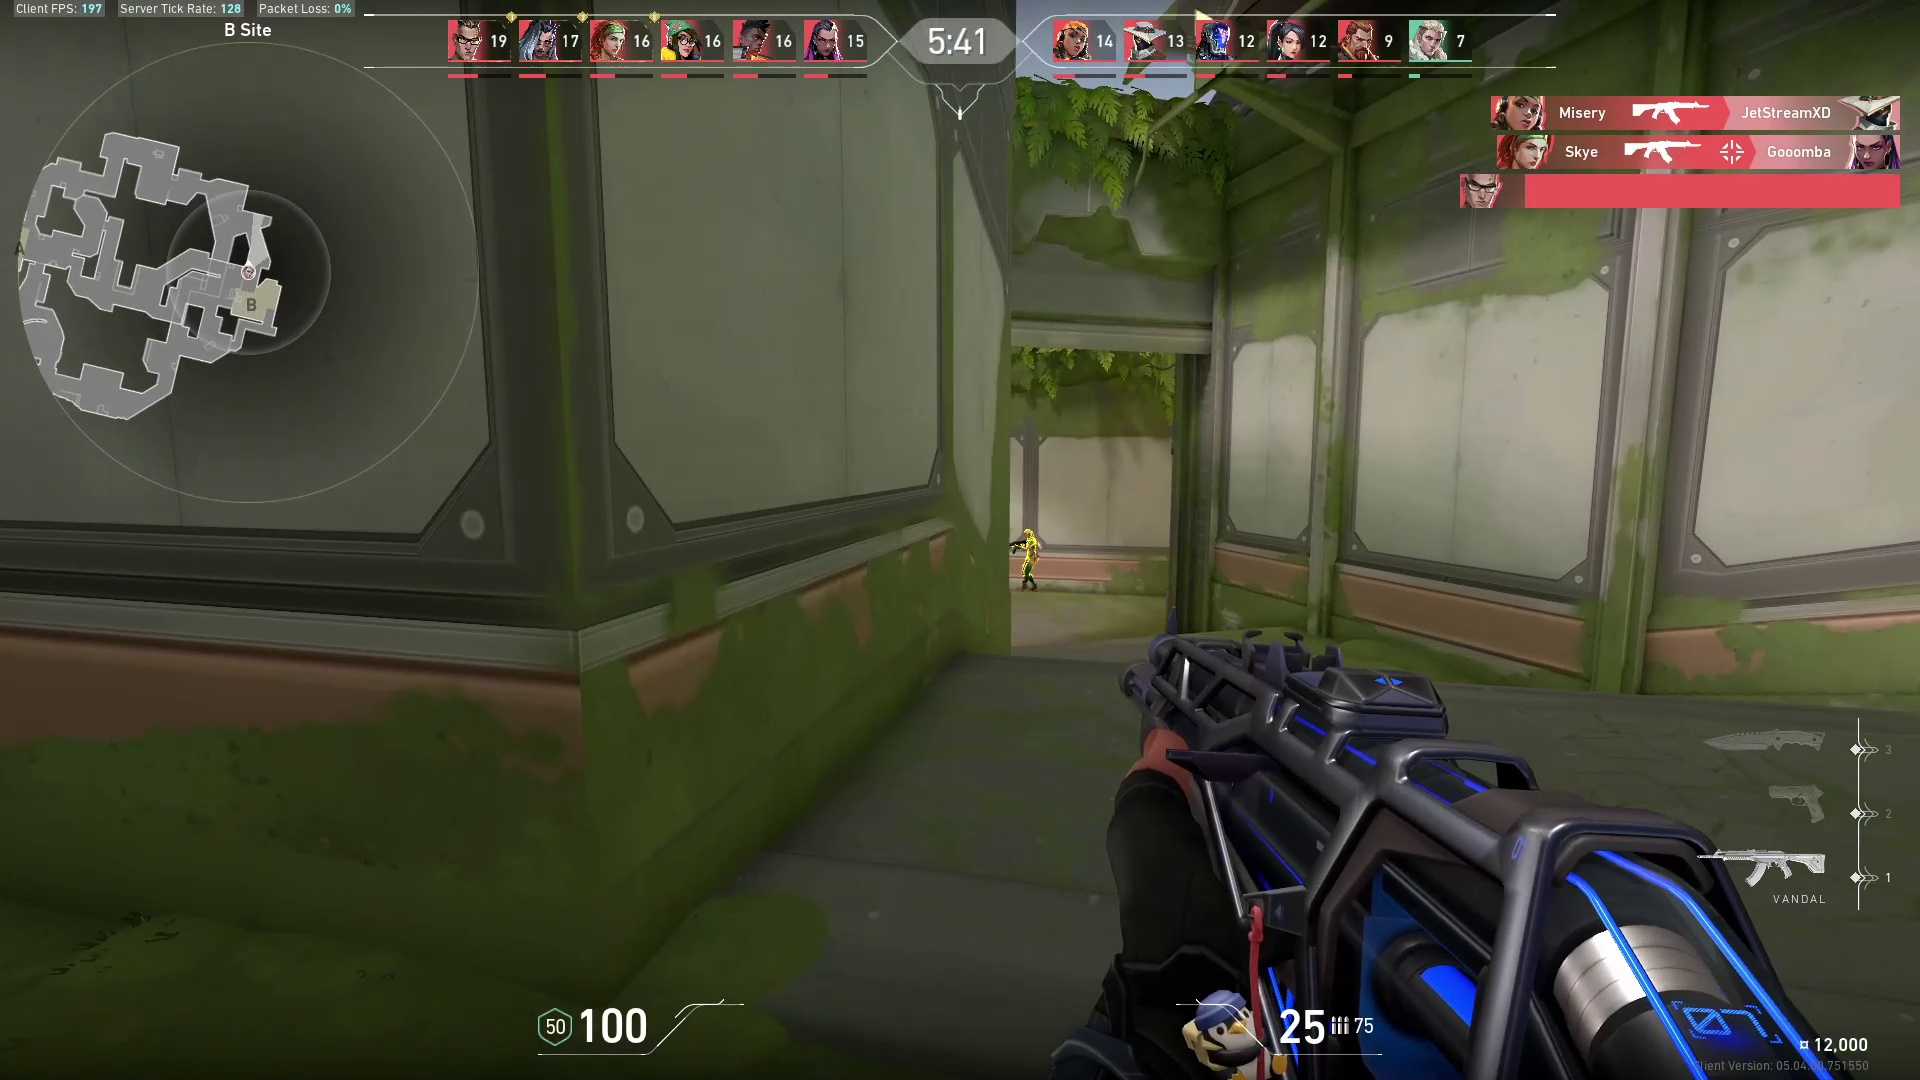enemy_body: (1011, 539, 1042, 593)
enemy_head: (1022, 527, 1034, 539)
